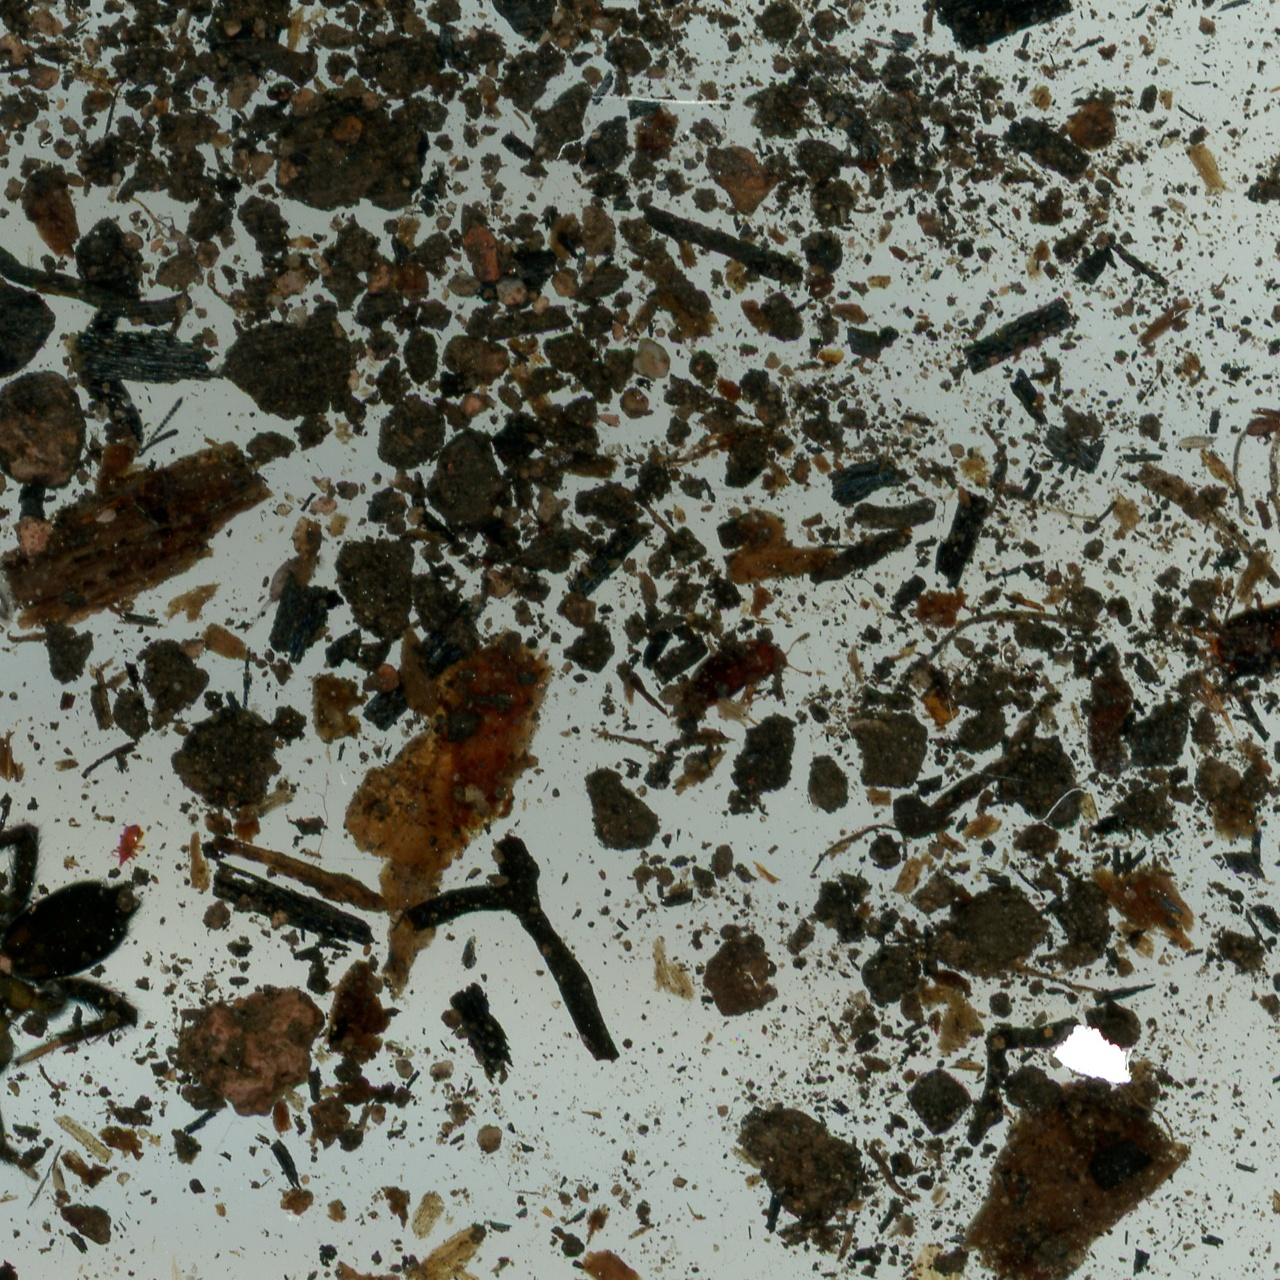arthropod: (0, 776, 230, 1237), (1114, 547, 1280, 753), (63, 298, 188, 481), (659, 627, 819, 736), (252, 515, 329, 627), (104, 817, 154, 876), (0, 535, 18, 635)
